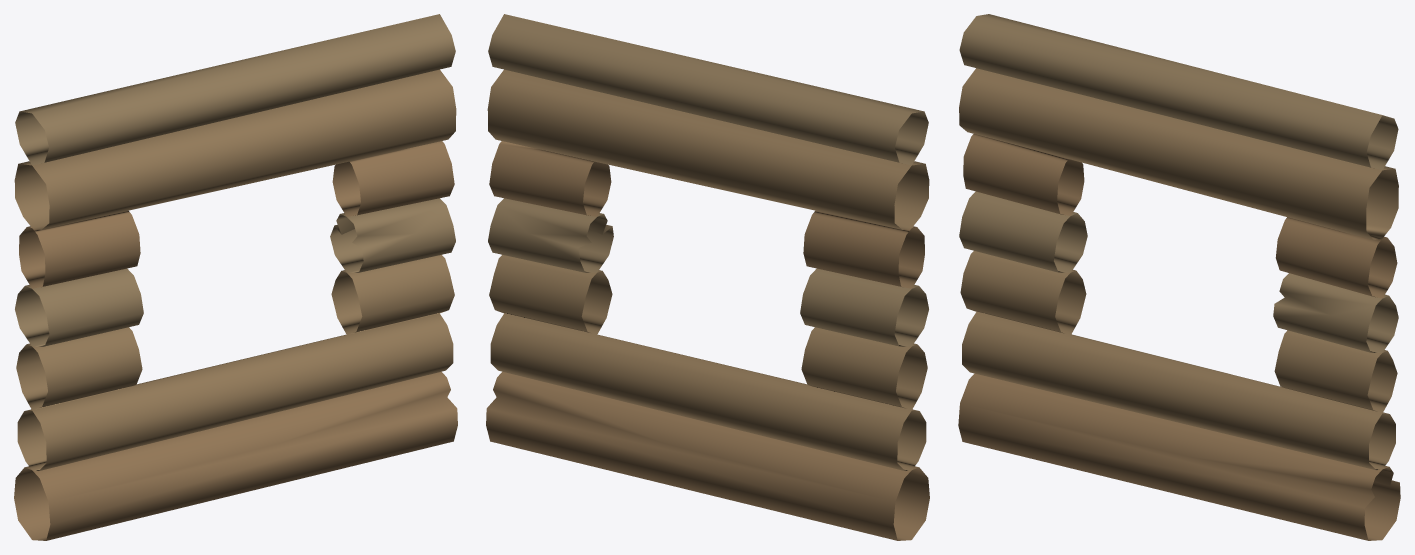
File: rpgpp_ag_wall_01_3x3_window_a.fbx
3 views of the same model, side by side, from view 1: azimuth 30°, elevation 25°; view 2: azimuth 150°, elevation 25°; view 3: azimuth 330°, elevation 25° (orthographic).
Visible parts, largest first — view 1: rpgpp_ag_wall_01_3x3_window_a; view 2: rpgpp_ag_wall_01_3x3_window_a; view 3: rpgpp_ag_wall_01_3x3_window_a.
Boxes of the visible parts, <box> form: rpgpp_ag_wall_01_3x3_window_a: <box>14,14,457,540</box>; rpgpp_ag_wall_01_3x3_window_a: <box>486,14,929,540</box>; rpgpp_ag_wall_01_3x3_window_a: <box>958,14,1400,540</box>.
Size of the model in its own units: 3 by 3 by 0.4626.
